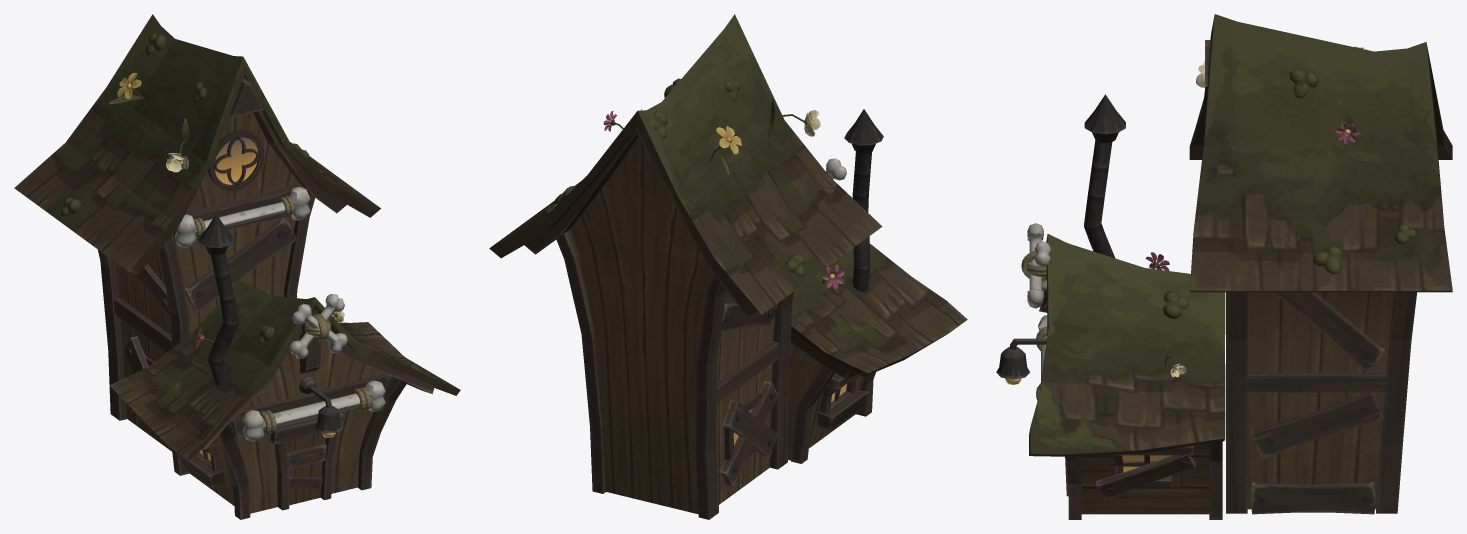
File: GraveHouse.fbx
3 renders of one model, left to right at view 1: azimuth 30°, elevation 25°; view 2: azimuth 150°, elevation 25°; view 3: azimuth 270°, elevation 25°, orthographic. The views are drawn at different scales.
Parts seen in each view (by area): view 1: House, Chimney, Light1; view 2: House, Chimney; view 3: House, Chimney.
Boxes of the visible parts, bbox=[...] form: House: bbox=[14, 14, 460, 519]; Chimney: bbox=[198, 214, 238, 385]; Light1: bbox=[199, 137, 257, 460]; House: bbox=[489, 14, 967, 519]; Chimney: bbox=[844, 109, 883, 291]; House: bbox=[996, 14, 1452, 519]; Chimney: bbox=[1084, 94, 1125, 258].
Size of the model in its own units: 420 by 585 by 514.
